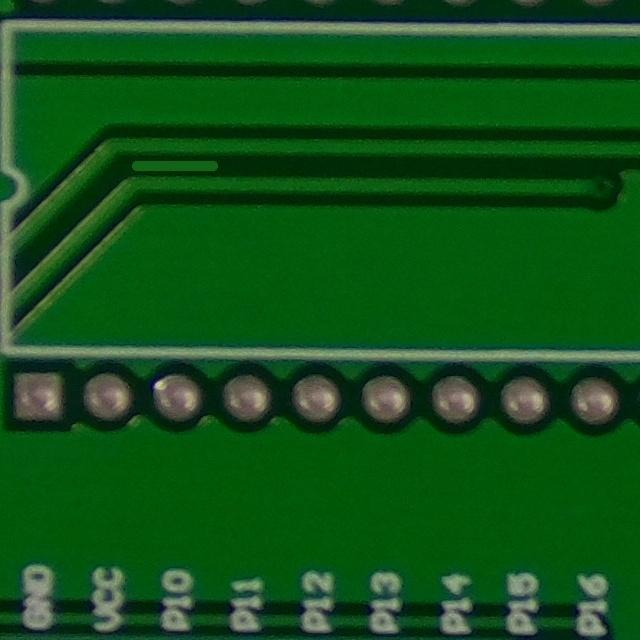spurious_copper: (123, 145, 223, 190)
